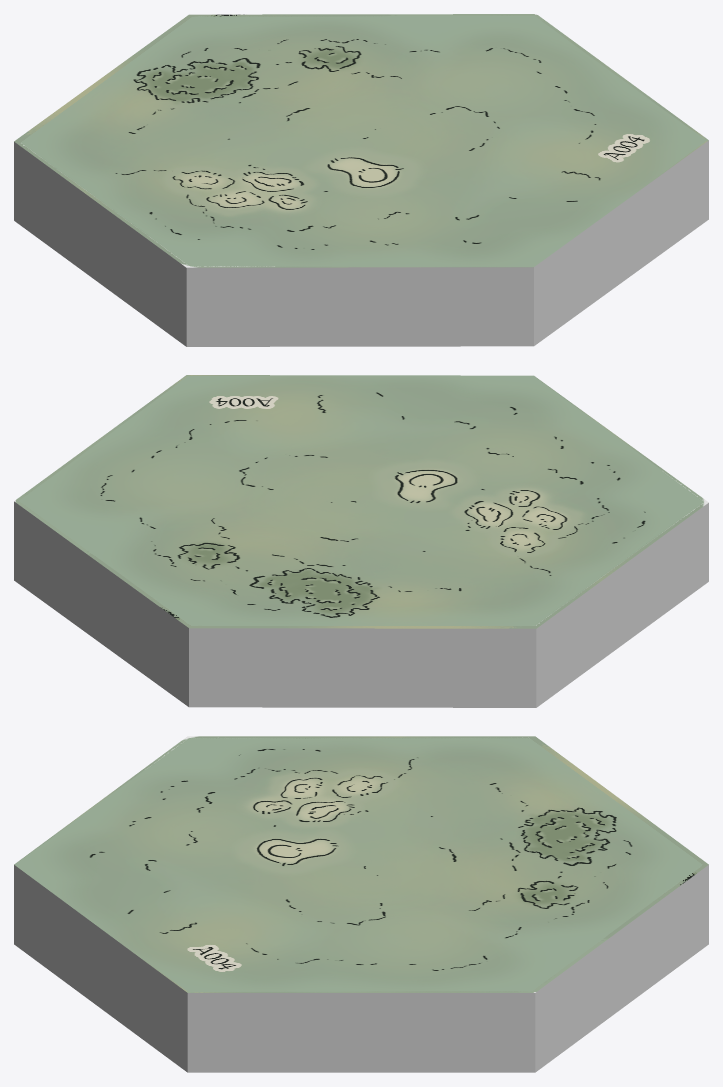
File: cool_hex.glb
3 renders of one model, top to bottom at view 1: azimuth 30°, elevation 25°; view 2: azimuth 150°, elevation 25°; view 3: azimuth 270°, elevation 25°, orthographic.
Visible parts, largest first — view 1: Cylinder; view 2: Cylinder; view 3: Cylinder.
Boxes of the visible parts, x1,y1,x2,y2 form: Cylinder: [14, 14, 708, 346]; Cylinder: [14, 375, 708, 707]; Cylinder: [14, 736, 708, 1072].
Bounding box in the file's own units: 1.73 × 0.2501 × 1.97.
3 materials, 2 textured.
